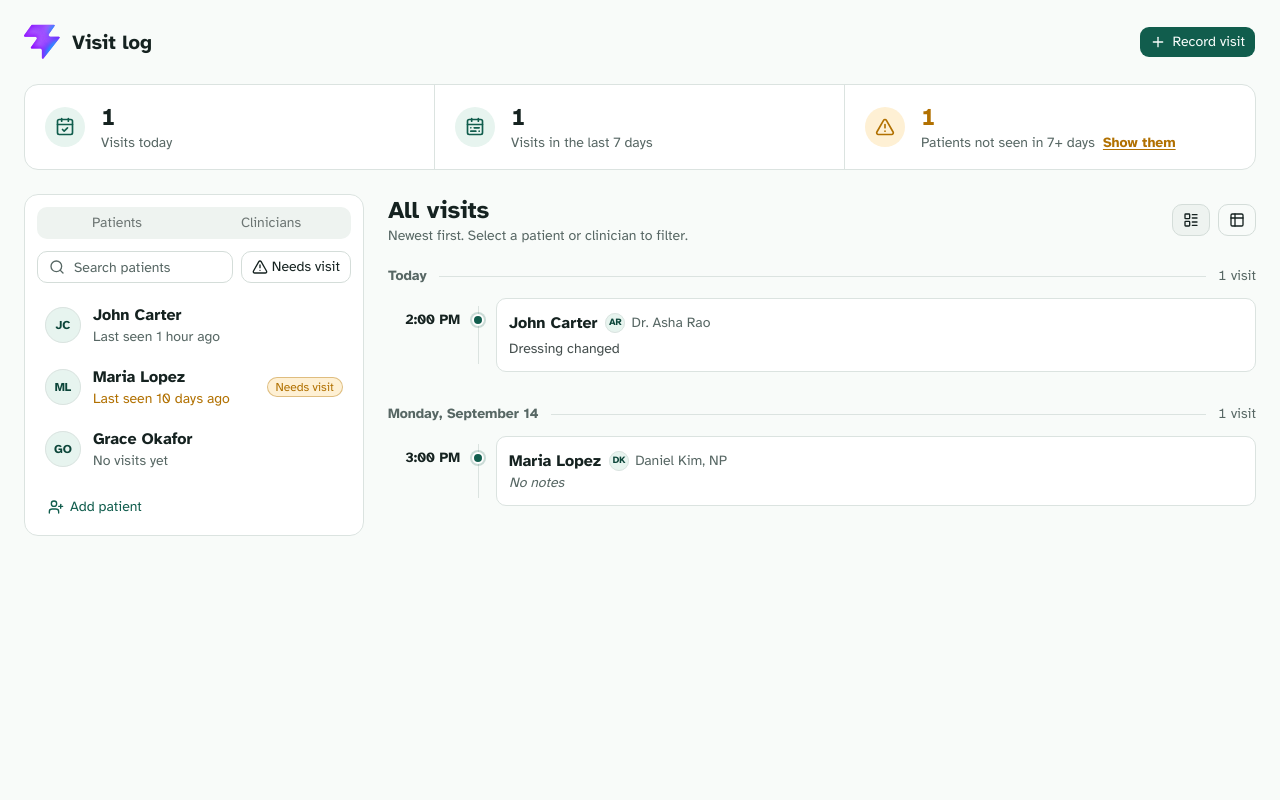
Test: Visit log › shows the server error when saving fails
Expected: the button "John Carter" is shown, [37,295,351,355]
Click the button "Record visit". click: (1198,42)
box: [1139,26,1256,58]
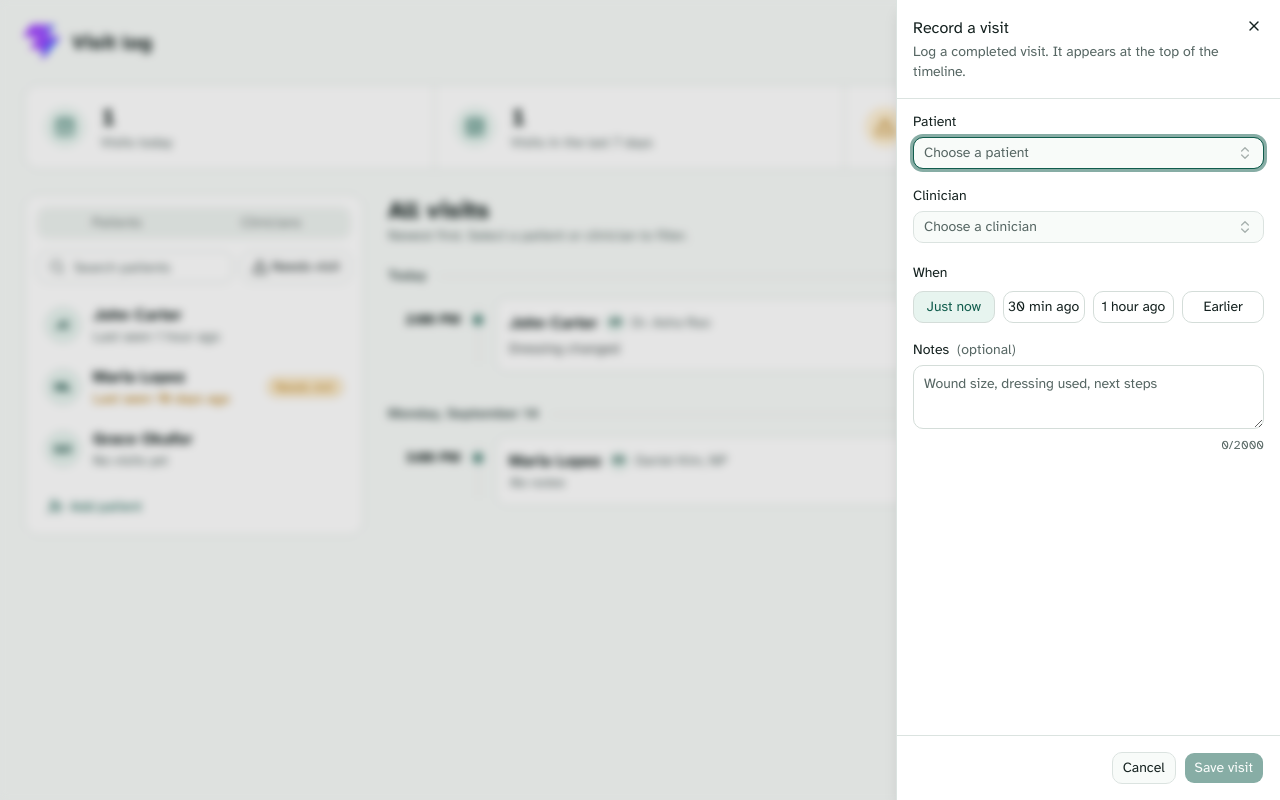
Click the dropdown labelled "patient". click: (976,152)
box: [913,137,1264,169]
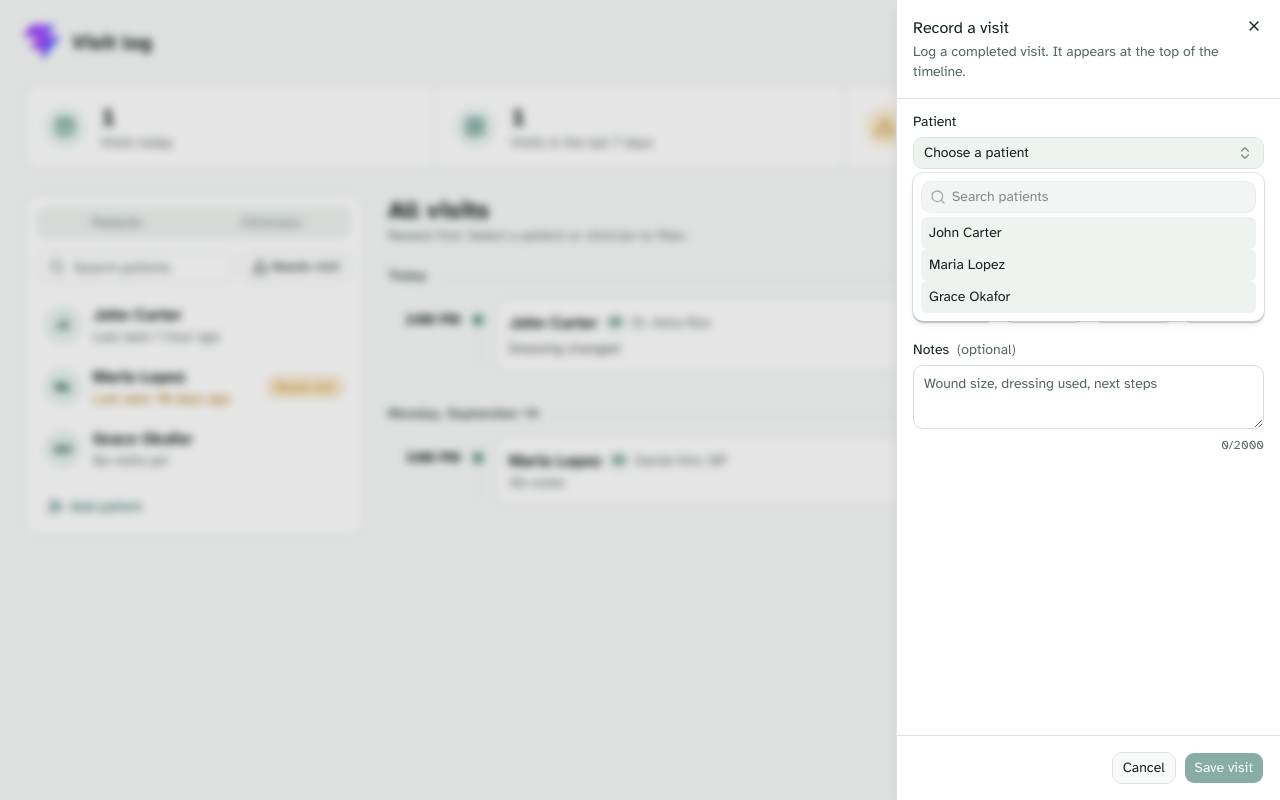
Click the option "John Carter". click: (965,232)
box: [921,217,1256,249]
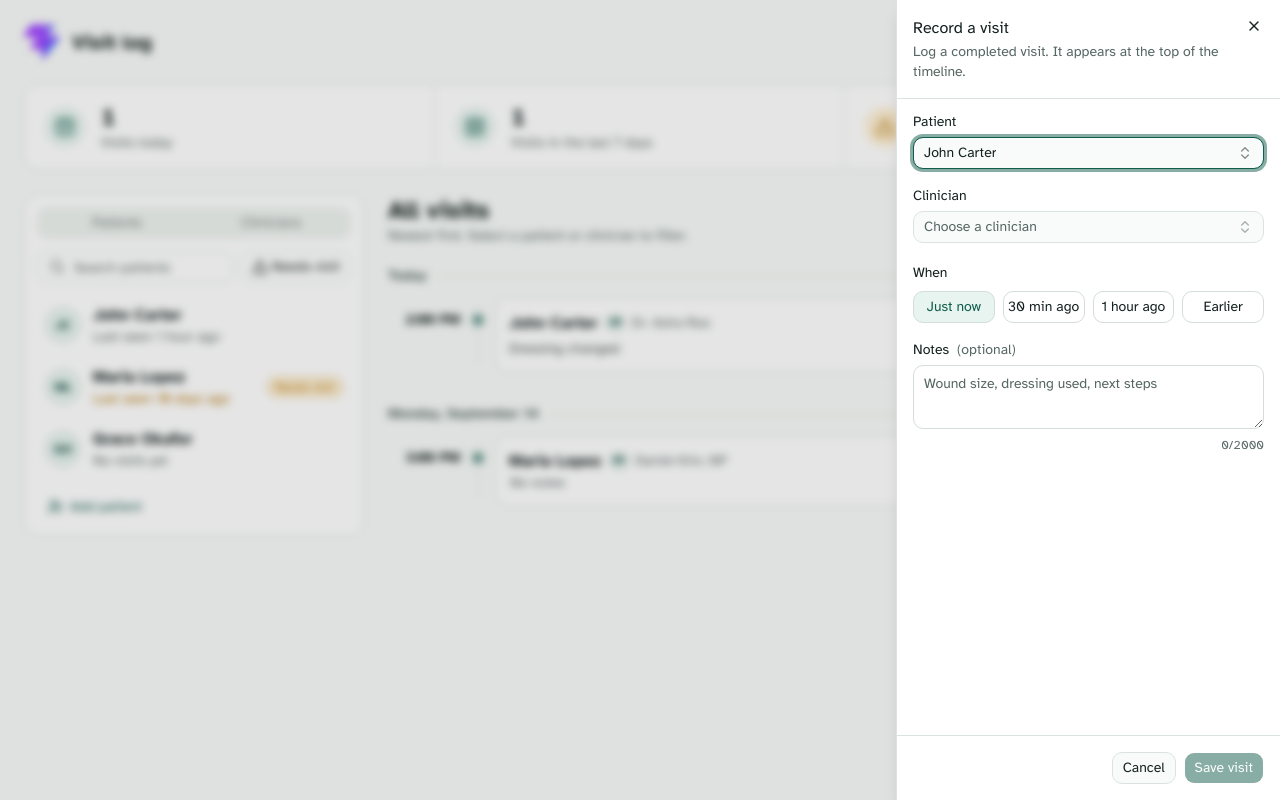
Click the dropdown labelled "clinician". click: (980,226)
box: [913,211,1264,243]
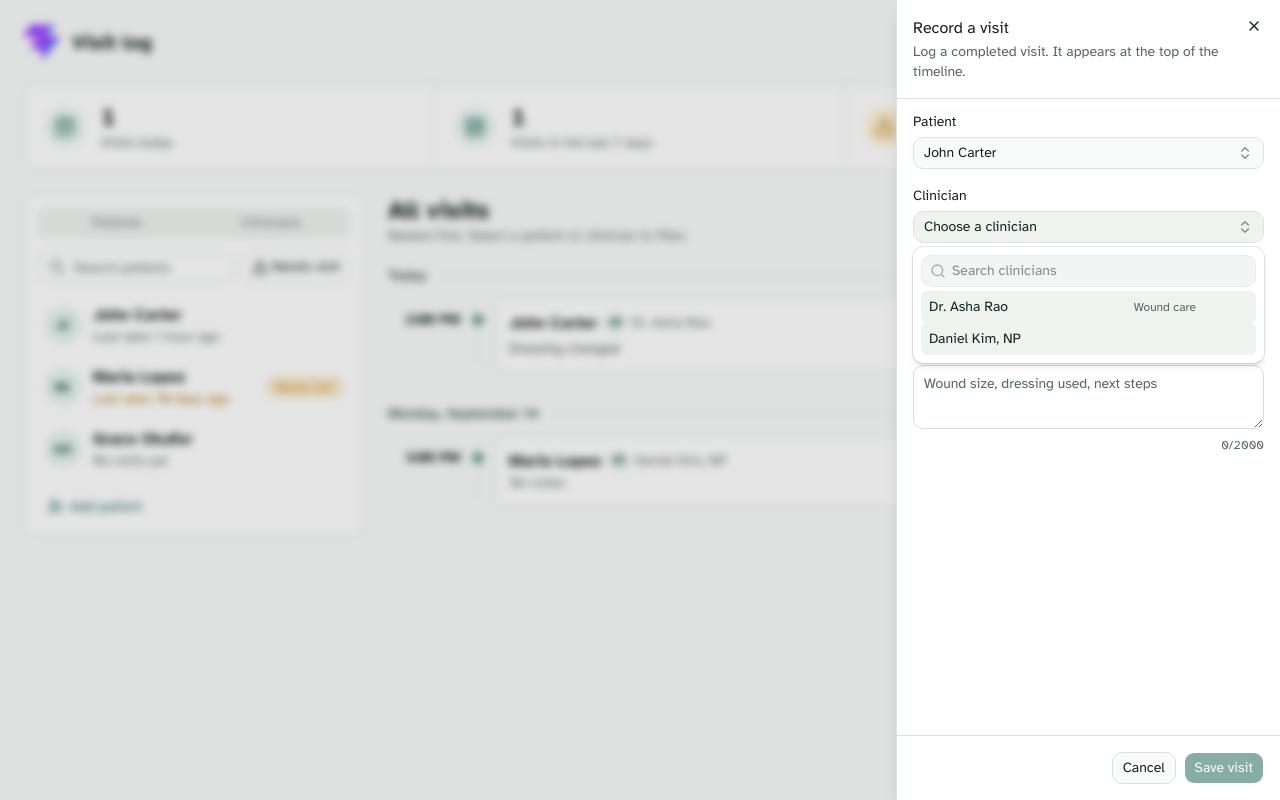
Click the option "Dr. Asha Rao Wound care". click: (969,306)
box: [921,291,1256,323]
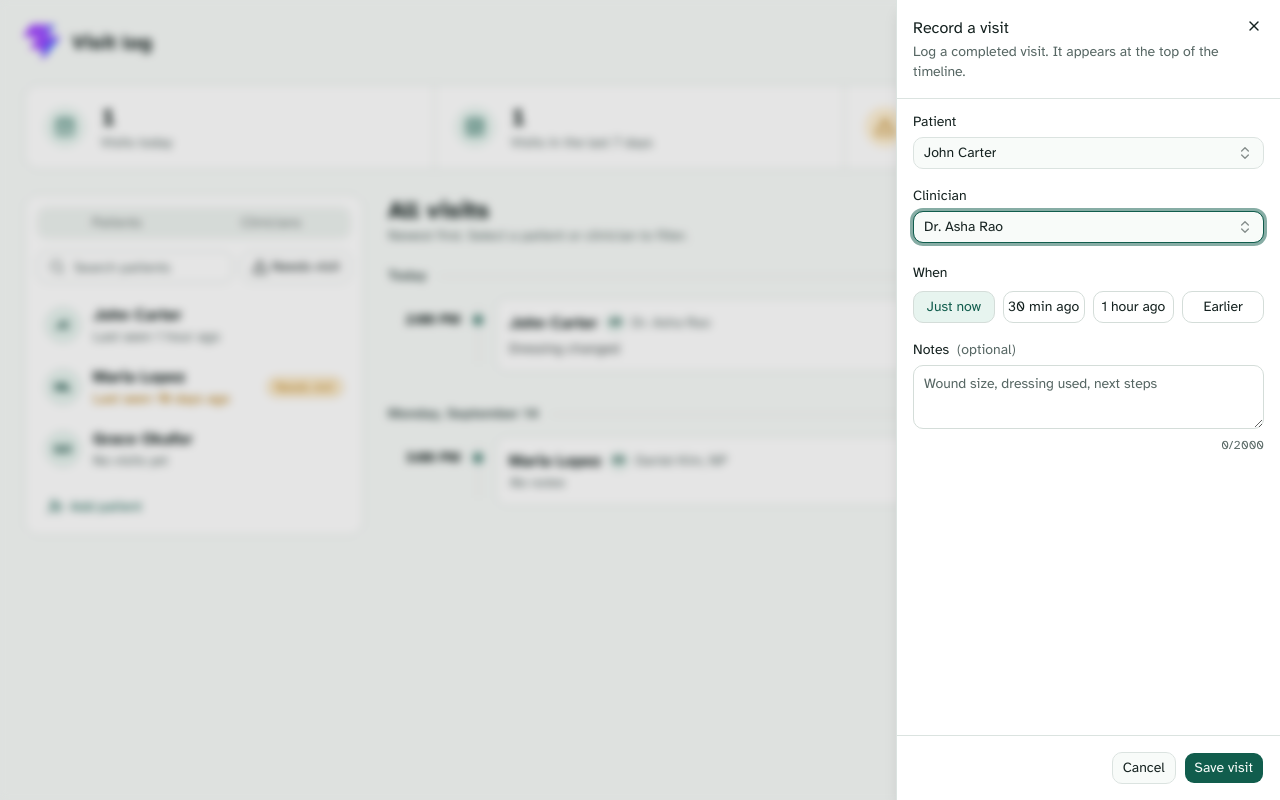
Click the button "Save visit". click: (1224,768)
box: [1184,752,1264,784]
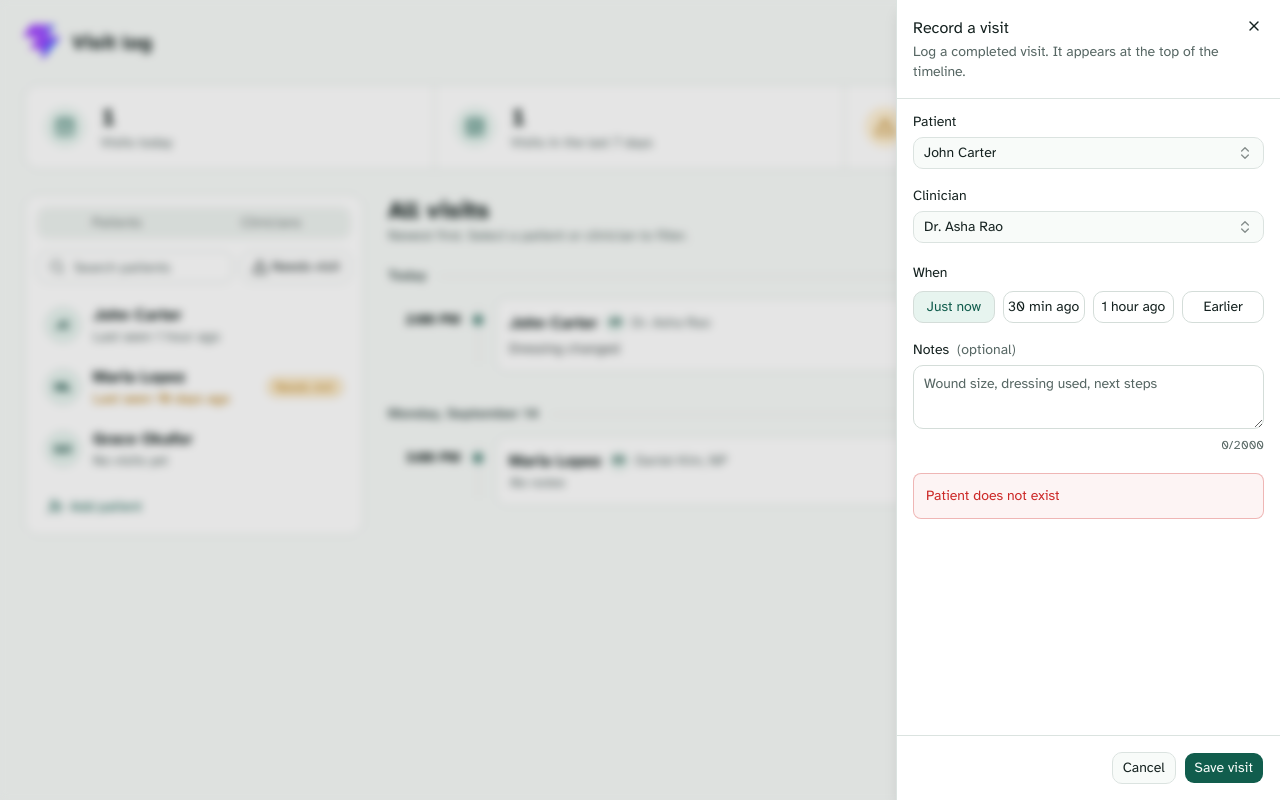
Result: the message reads "Patient does not exist" at [926,487,1060,504]
